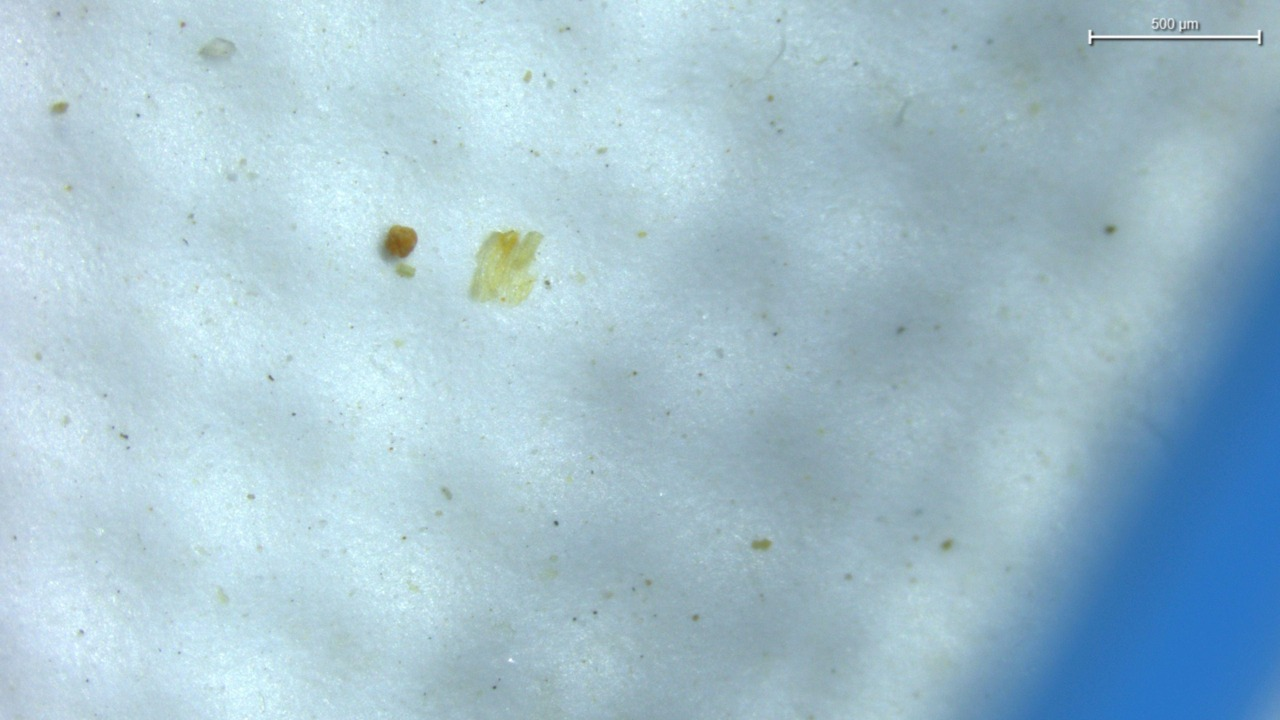microplastic_fragment: (470, 229, 542, 305)
